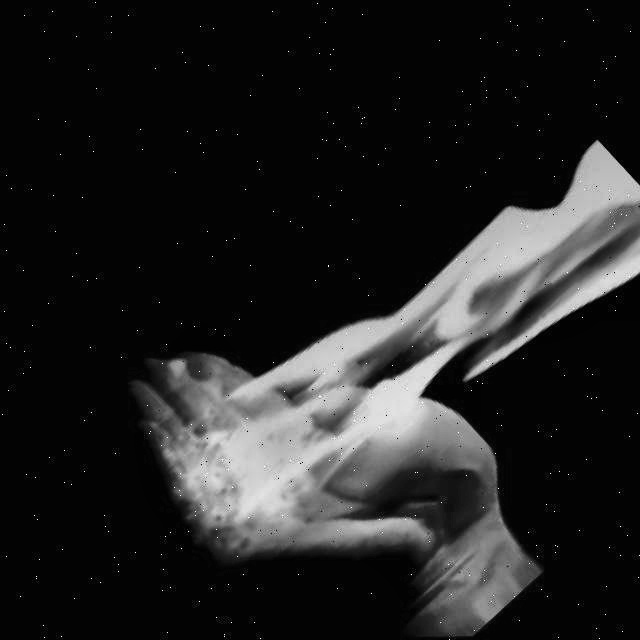Fire: (147, 91, 640, 593)
